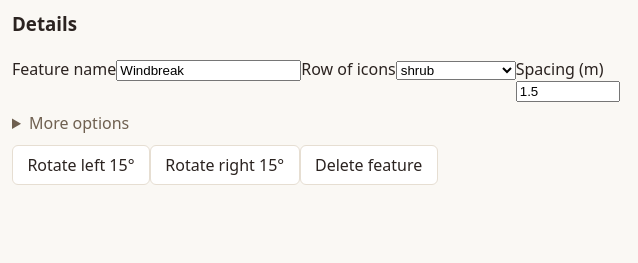
Test case: FeatureProperties › edits the spacing of a row, and refuses one that is too tight
Check: the dropdown labelled "Row of icons" shows "shrub", box [396, 60, 516, 80]
Replace the text in the field labelled "Spacing (m)" with "6" at (568,91), box [516, 80, 620, 102]
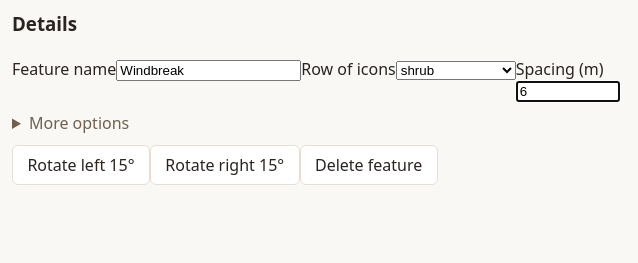
Clear the field labelled "Spacing (m)" at (568,91), box [516, 80, 620, 102]
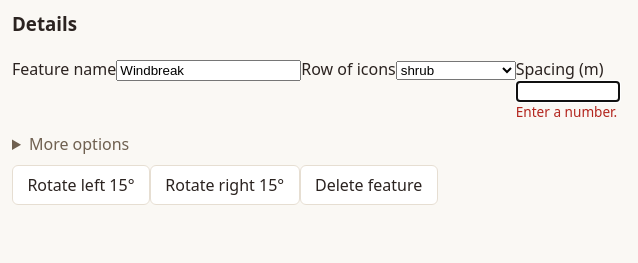
Type keys "0.1"
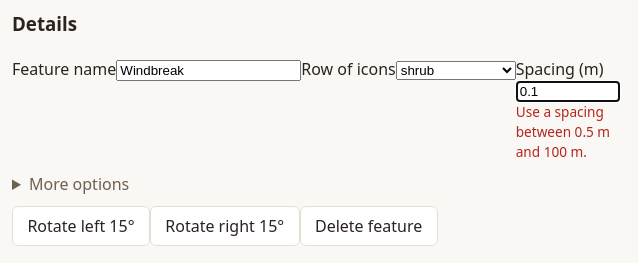
Check: the message shows "between", box [516, 102, 610, 161]
